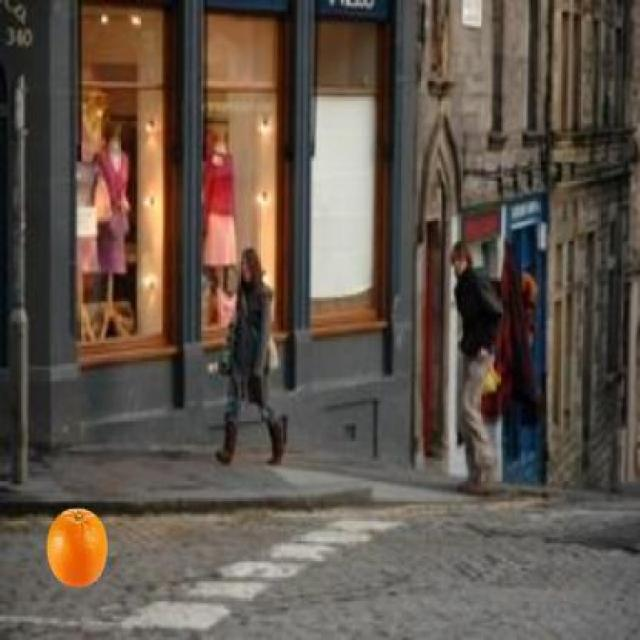Orange: (44, 506, 108, 588)
